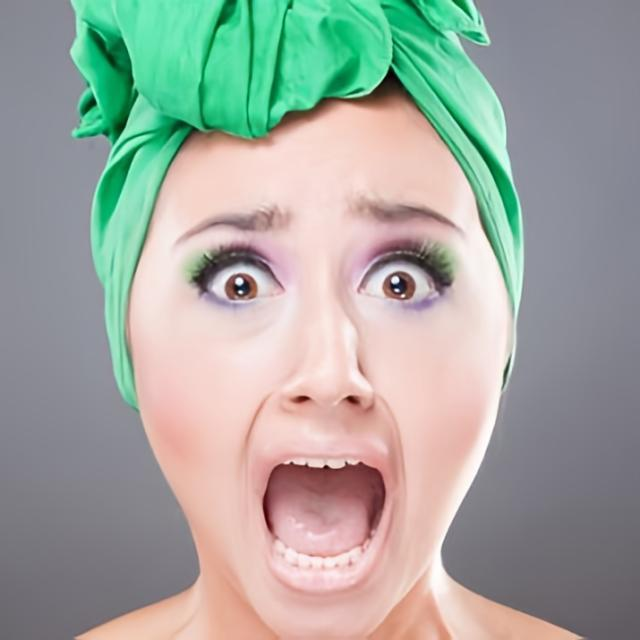fear: (126, 68, 511, 640)
